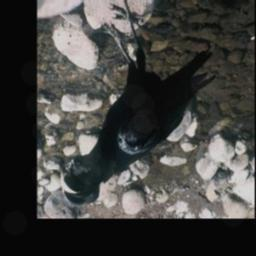Crow: (59, 0, 214, 208)
